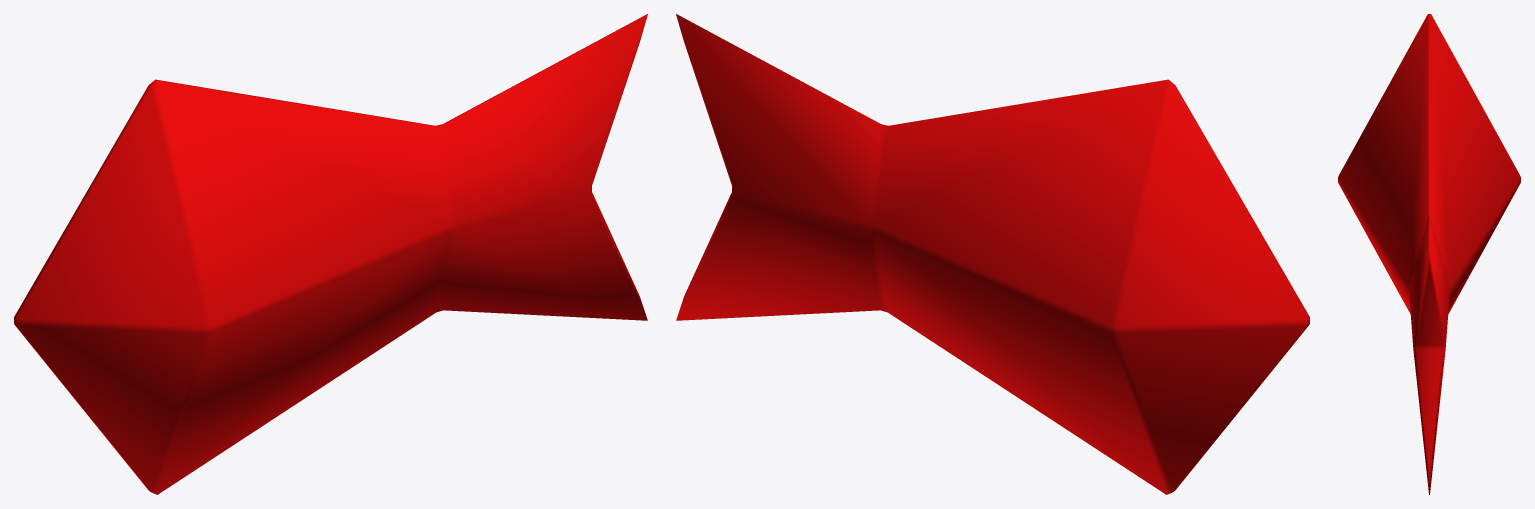
The model's file is fish.glb.
3 views of the same model, side by side, from view 1: azimuth 30°, elevation 25°; view 2: azimuth 150°, elevation 25°; view 3: azimuth 270°, elevation 25° (orthographic). The views are drawn at different scales.
Visible parts, largest first — view 1: Cube; view 2: Cube; view 3: Cube.
Boxes of the visible parts, x1,y1,x2,y2 form: Cube: (14,14,647,494); Cube: (676,14,1309,494); Cube: (1338,14,1520,494).
Size of the model in its own units: 4.41 by 2.76 by 1.38.
